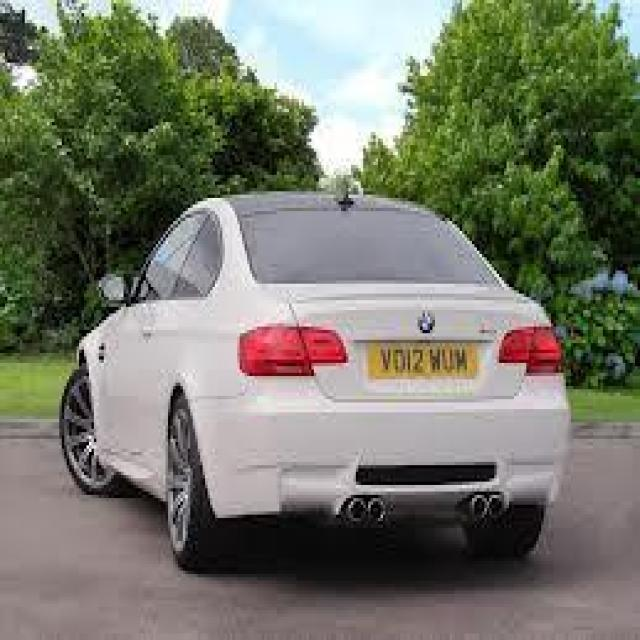Car: (54, 138, 590, 584)
